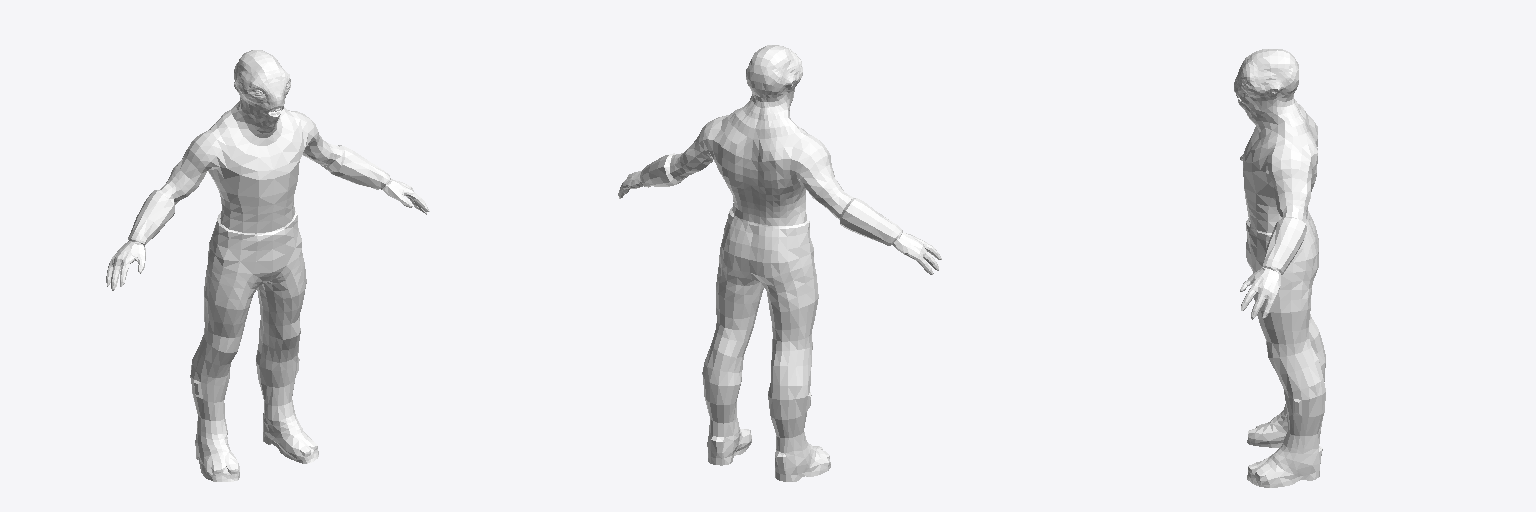
Rendered from AlienTanker.obj.
The picture shows the model from 3 angles: view 1: azimuth 30°, elevation 25°; view 2: azimuth 150°, elevation 25°; view 3: azimuth 270°, elevation 25°; orthographic projection.
Parts seen in each view (by area): view 1: RetopoFlow_RetopoFlow.001; view 2: RetopoFlow_RetopoFlow.001; view 3: RetopoFlow_RetopoFlow.001.
Boxes of the visible parts, x1=… form: RetopoFlow_RetopoFlow.001: x1=106, y1=50, x2=429, y2=481; RetopoFlow_RetopoFlow.001: x1=618, y1=45, x2=941, y2=481; RetopoFlow_RetopoFlow.001: x1=1234, y1=49, x2=1325, y2=487.
Bounding box in the file's own units: 68.04 × 84.71 × 17.25.